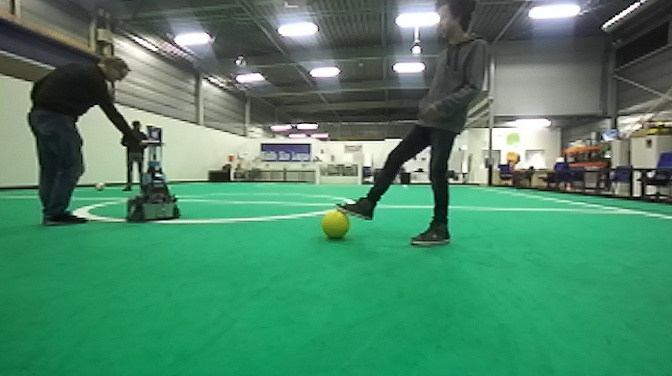ball: (319, 208, 352, 242), (93, 179, 106, 193)
goal: (313, 161, 366, 188)
goalpost: (314, 162, 322, 186), (358, 161, 365, 187)
human: (330, 1, 490, 250), (24, 54, 145, 228), (118, 117, 150, 195)
robot: (124, 138, 180, 226)
